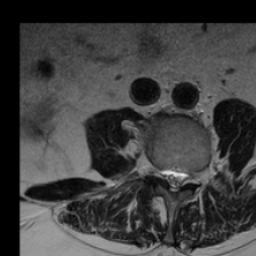CCS_normal: (169, 160, 177, 202)
LFS_normal: (187, 160, 197, 191)
LLS_normal: (177, 160, 187, 195)
RFS_normal: (150, 153, 160, 183)
RLS_normal: (160, 160, 169, 188)
